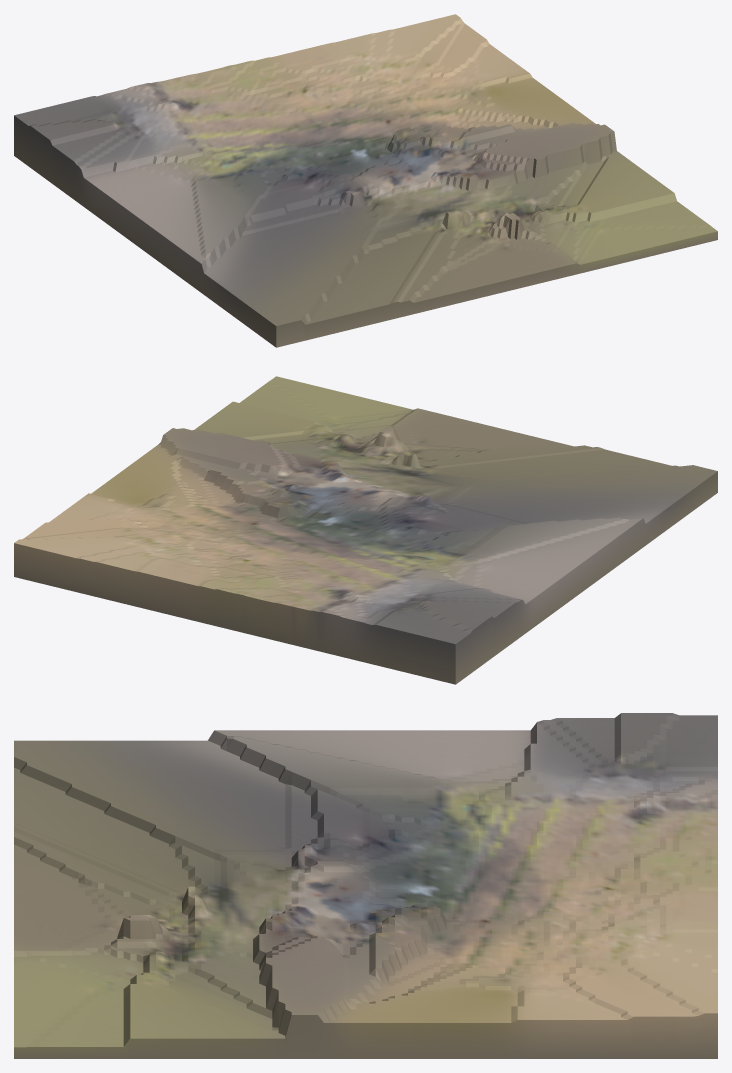
The model's file is ground.glb.
3 renders of one model, top to bottom at view 1: azimuth 30°, elevation 25°; view 2: azimuth 150°, elevation 25°; view 3: azimuth 270°, elevation 25°, orthographic. The views are drawn at different scales.
Parts seen in each view (by area): view 1: geometry_0; view 2: geometry_0; view 3: geometry_0.
Boxes of the visible parts, box(x1,y1,x2,y2) form: geometry_0: box(14, 14, 717, 347); geometry_0: box(14, 376, 717, 684); geometry_0: box(14, 713, 717, 1058).
Size of the model in its own units: 53 by 4.82 by 54.5.
